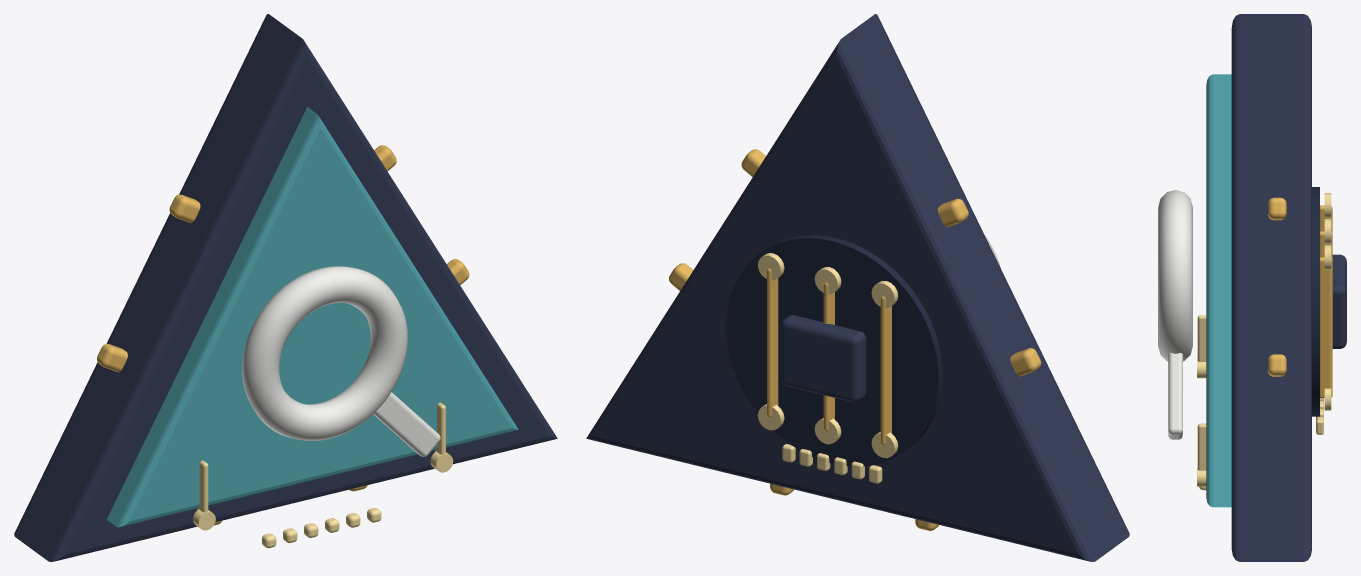
Rendered from chip-fact.glb.
3 views of the same model, side by side, from view 1: azimuth 30°, elevation 25°; view 2: azimuth 150°, elevation 25°; view 3: azimuth 270°, elevation 25° (orthographic). The views are drawn at different scales.
Parts seen in each view (by area): view 1: component (×4); view 2: component (×6); view 3: component (×11).
Part boxes in pixels (bbox=[...]): component (×4): bbox=[14, 14, 557, 561]; component (×6): bbox=[586, 14, 1129, 561]; component (×11): bbox=[1158, 14, 1346, 561].
Bounding box in the file's own units: 0.0411 × 0.0372 × 0.0141.
